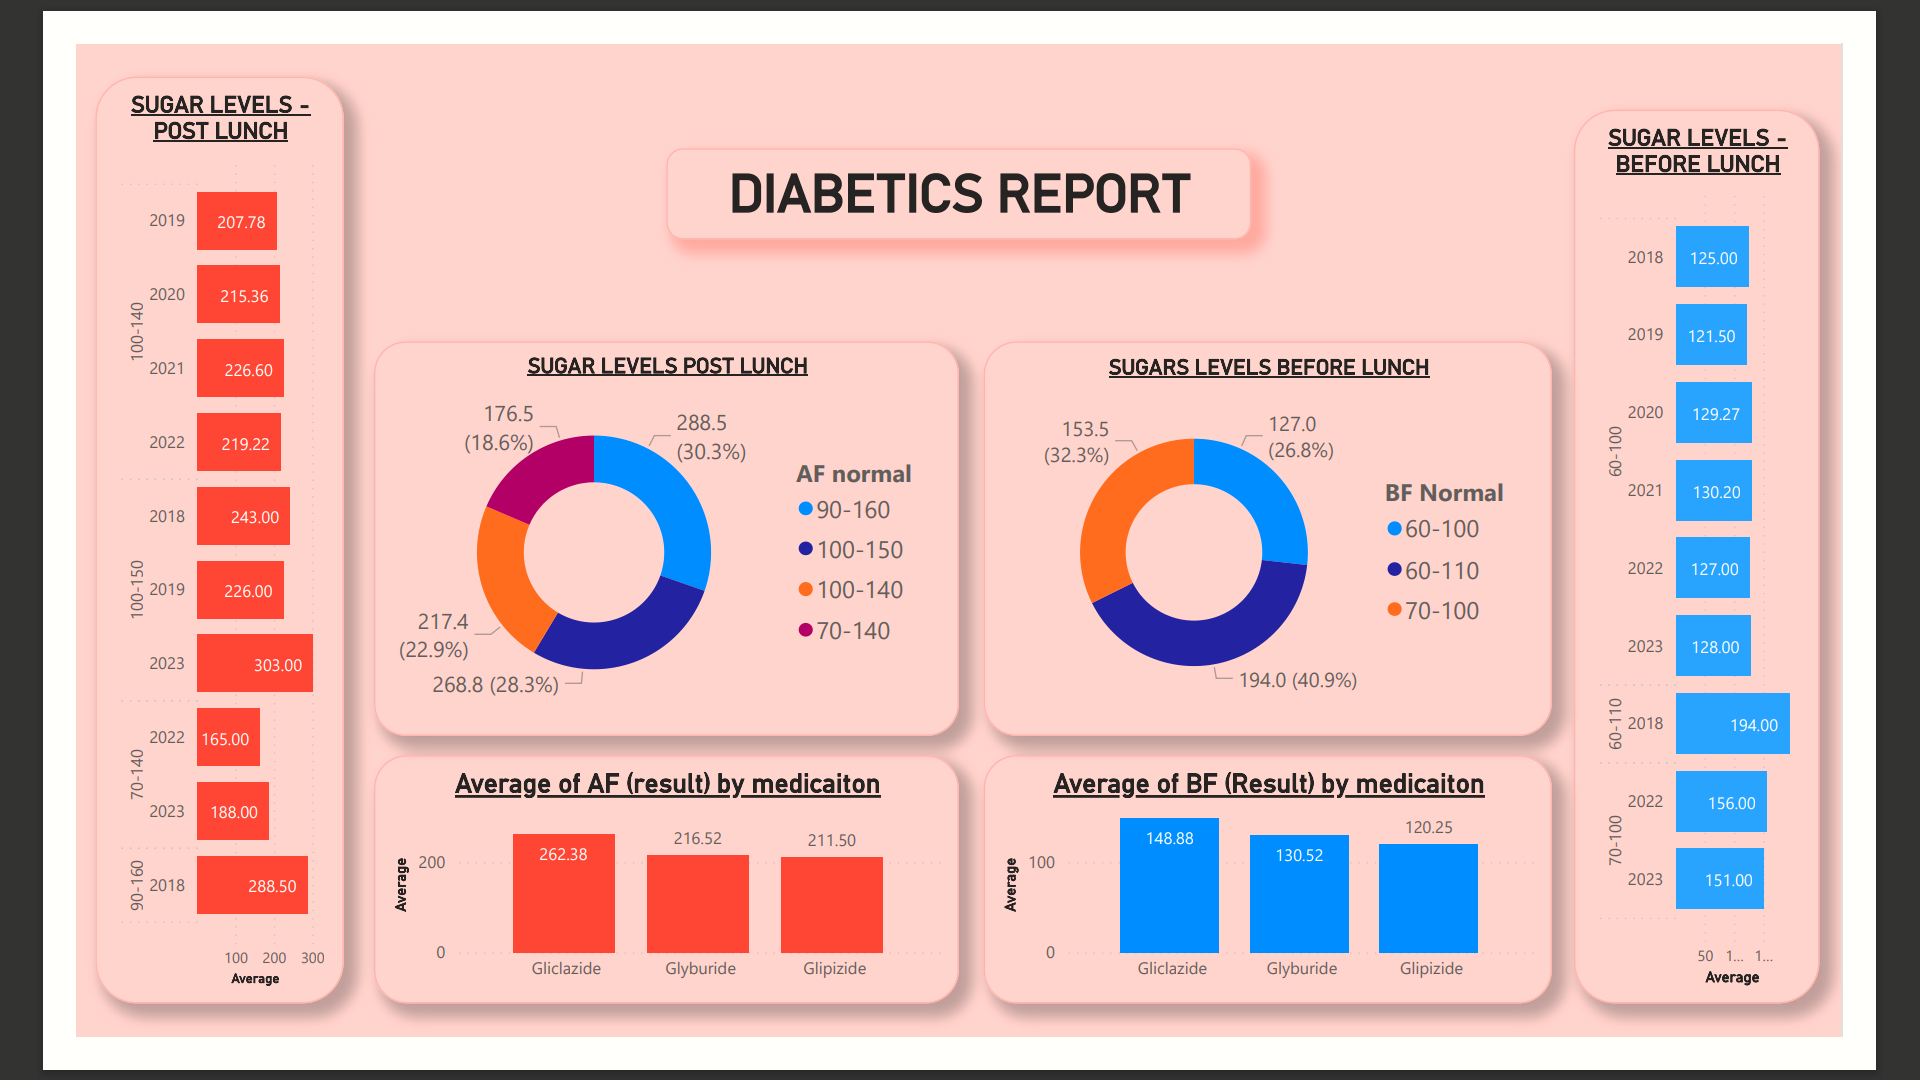

This screenshot's page, from the dashboard's own definition file:
{"tool":"powerbi","page":{"name":"DIABETES REPORT","canvas":[1280,720],"ordinal":0},"visuals":[{"type":"clusteredBarChart","title":" SUGAR LEVELS - POST LUNCH ","fields":{"Category":["Sheet1.AF normal Range","Sheet1.Date.Variation.Date Hierarchy.Year"],"Y":["Avg(Sheet1.AF(result))"]},"box":[14,24,180,672],"z":0},{"type":"donutChart","title":"SUGAR LEVELS POST LUNCH","fields":{"Category":["Sheet1.AF normal Range"],"Y":["Avg(Sheet1.AF(result))"]},"box":[216,216,424,286],"z":1000},{"type":"donutChart","title":"SUGARS LEVELS BEFORE LUNCH","fields":{"Y":["Avg(Sheet1.BF(Result))"],"Series":["Sheet1.BF Normal range"]},"box":[658,216,412,286],"z":2000},{"type":"barChart","title":" SUGAR LEVELS - BEFORE LUNCH ","fields":{"Category":["Sheet1.BF Normal range","Sheet1.Date.Variation.Date Hierarchy.Year"],"Y":["Avg(Sheet1.BF(Result))"]},"box":[1086,48,178,648],"z":3000},{"type":"columnChart","title":"Average of BF (Result) by medicaiton","fields":{"Category":["Sheet1 (2).medicaiton"],"Y":["Avg(Sheet1 (2).BF(Result))"]},"box":[658,516,412,180],"z":5000},{"type":"columnChart","title":"Average of AF (result) by medicaiton","fields":{"Category":["Sheet1 (2).medicaiton"],"Y":["Avg(Sheet1 (2).AF(result))"]},"box":[216,516,424,180],"z":6000},{"type":"textbox","box":[428,76,424,66],"z":7000}]}

Visuals, with their boxes in screenshot pixels (x1, y1, x2, y2), scaled from the page's 1280x720 canvas onto the 1920x1080 screenshot:
" SUGAR LEVELS - POST LUNCH " clusteredBarChart: 21,36,291,1044
"SUGAR LEVELS POST LUNCH" donutChart: 324,324,960,753
"SUGARS LEVELS BEFORE LUNCH" donutChart: 987,324,1605,753
" SUGAR LEVELS - BEFORE LUNCH " barChart: 1629,72,1896,1044
"Average of BF (Result) by medicaiton" columnChart: 987,774,1605,1044
"Average of AF (result) by medicaiton" columnChart: 324,774,960,1044
textbox: 642,114,1278,213
